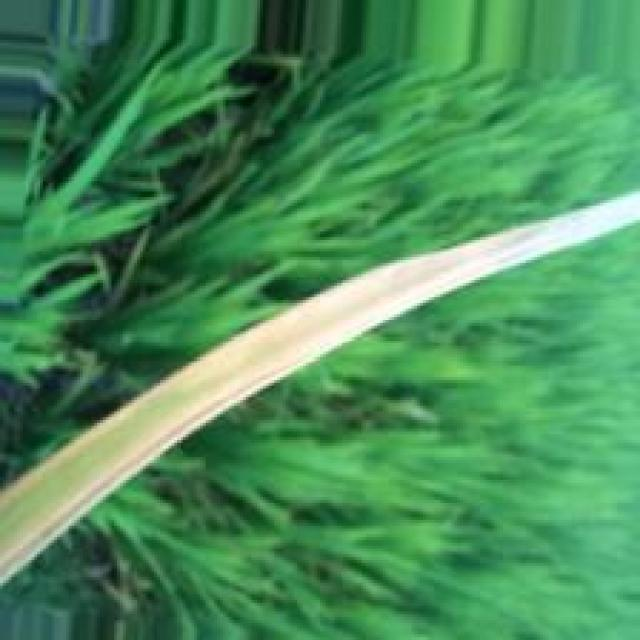Leaf_Scald: (1, 188, 640, 582)
